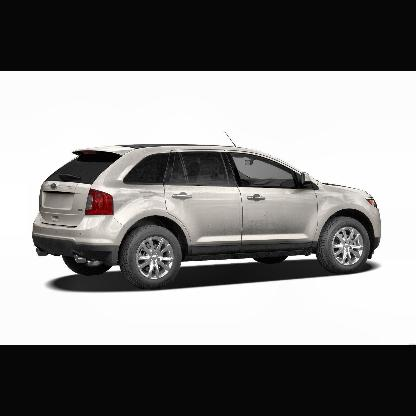Ford Edge SUV 2012: (34, 145, 382, 288)
